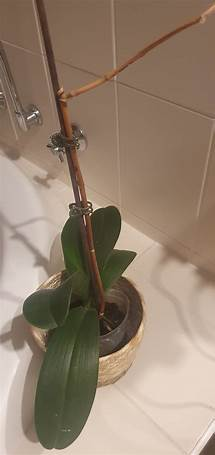orchid branch: (32, 1, 215, 297)
